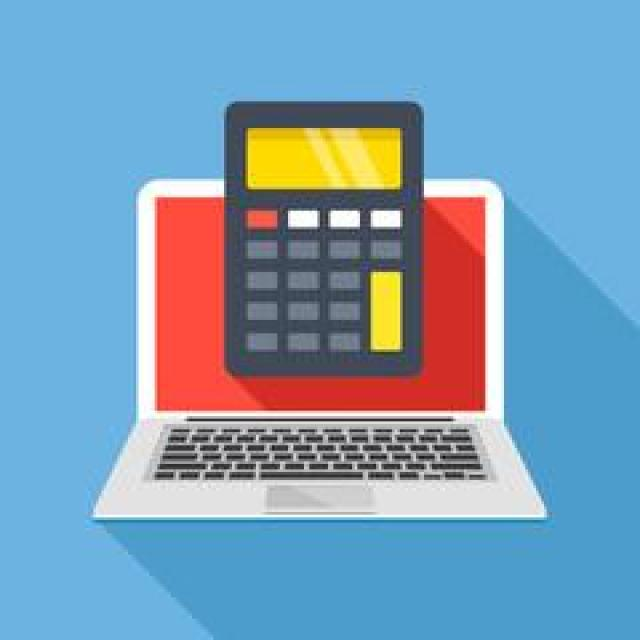Calculator: (225, 101, 418, 382)
